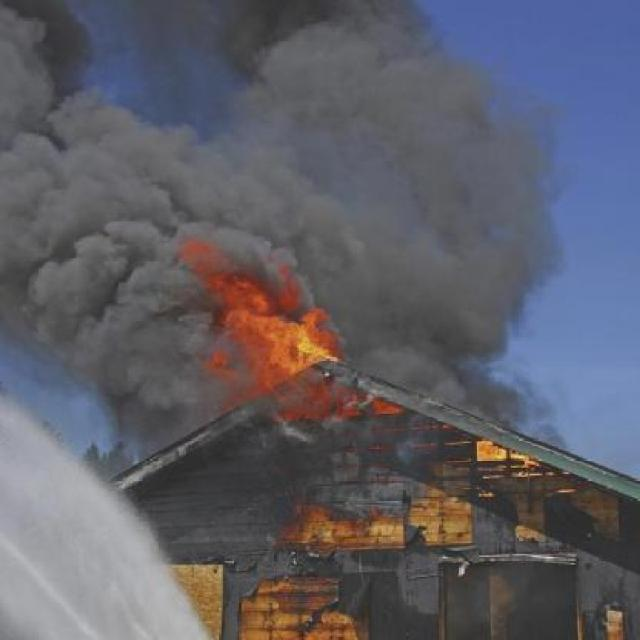Fire: (189, 250, 346, 428)
Smoke: (0, 1, 579, 249), (349, 246, 566, 420), (0, 260, 173, 463)
